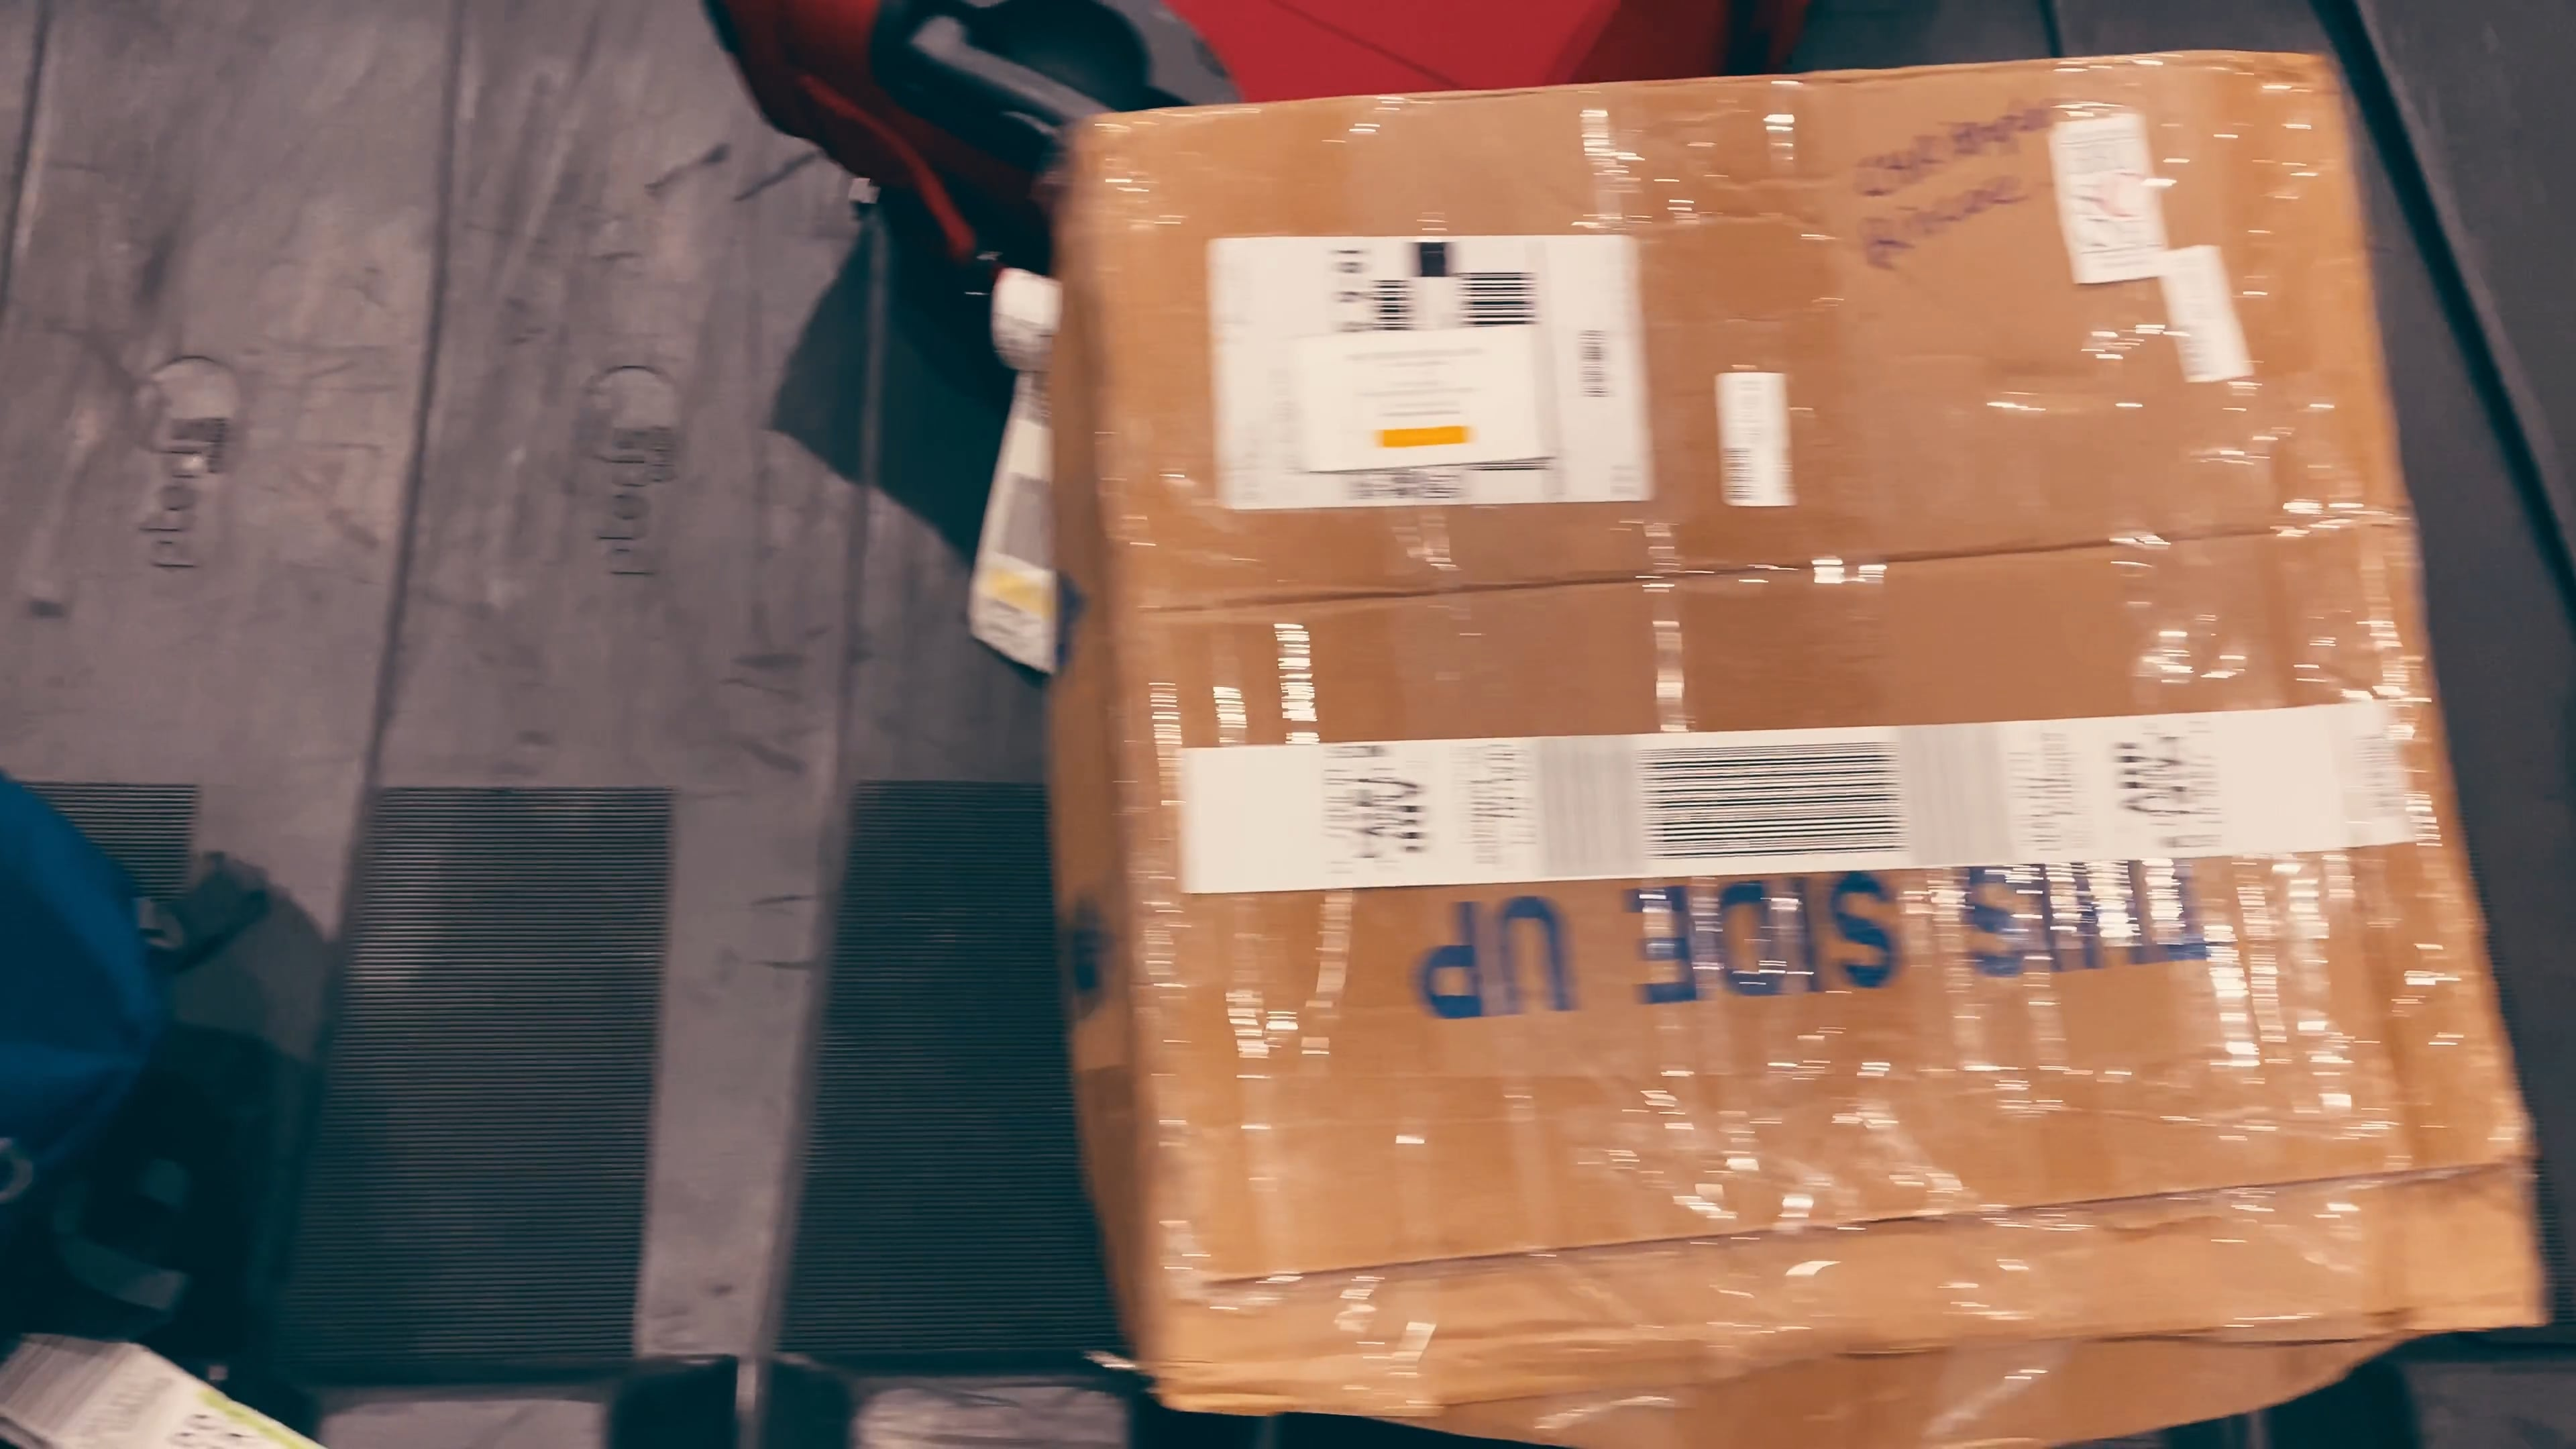baggage: (1026, 74, 2564, 1437)
